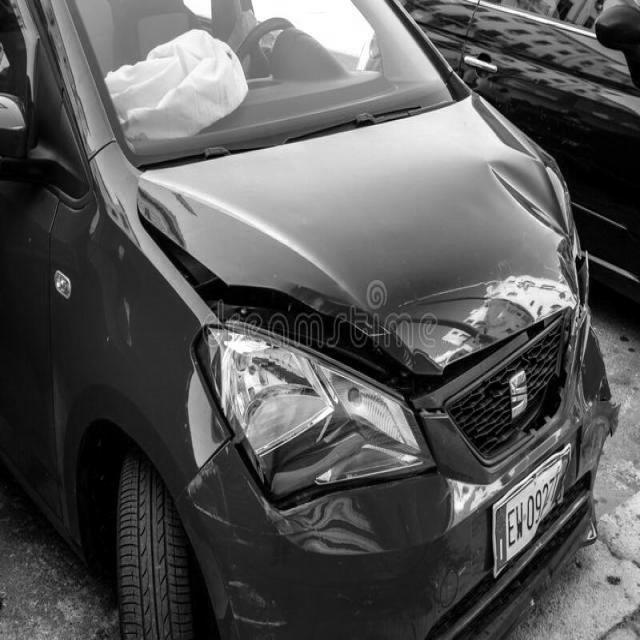bonnet-dent: (123, 175, 587, 411)
front-bumper-dent: (154, 408, 499, 639)
